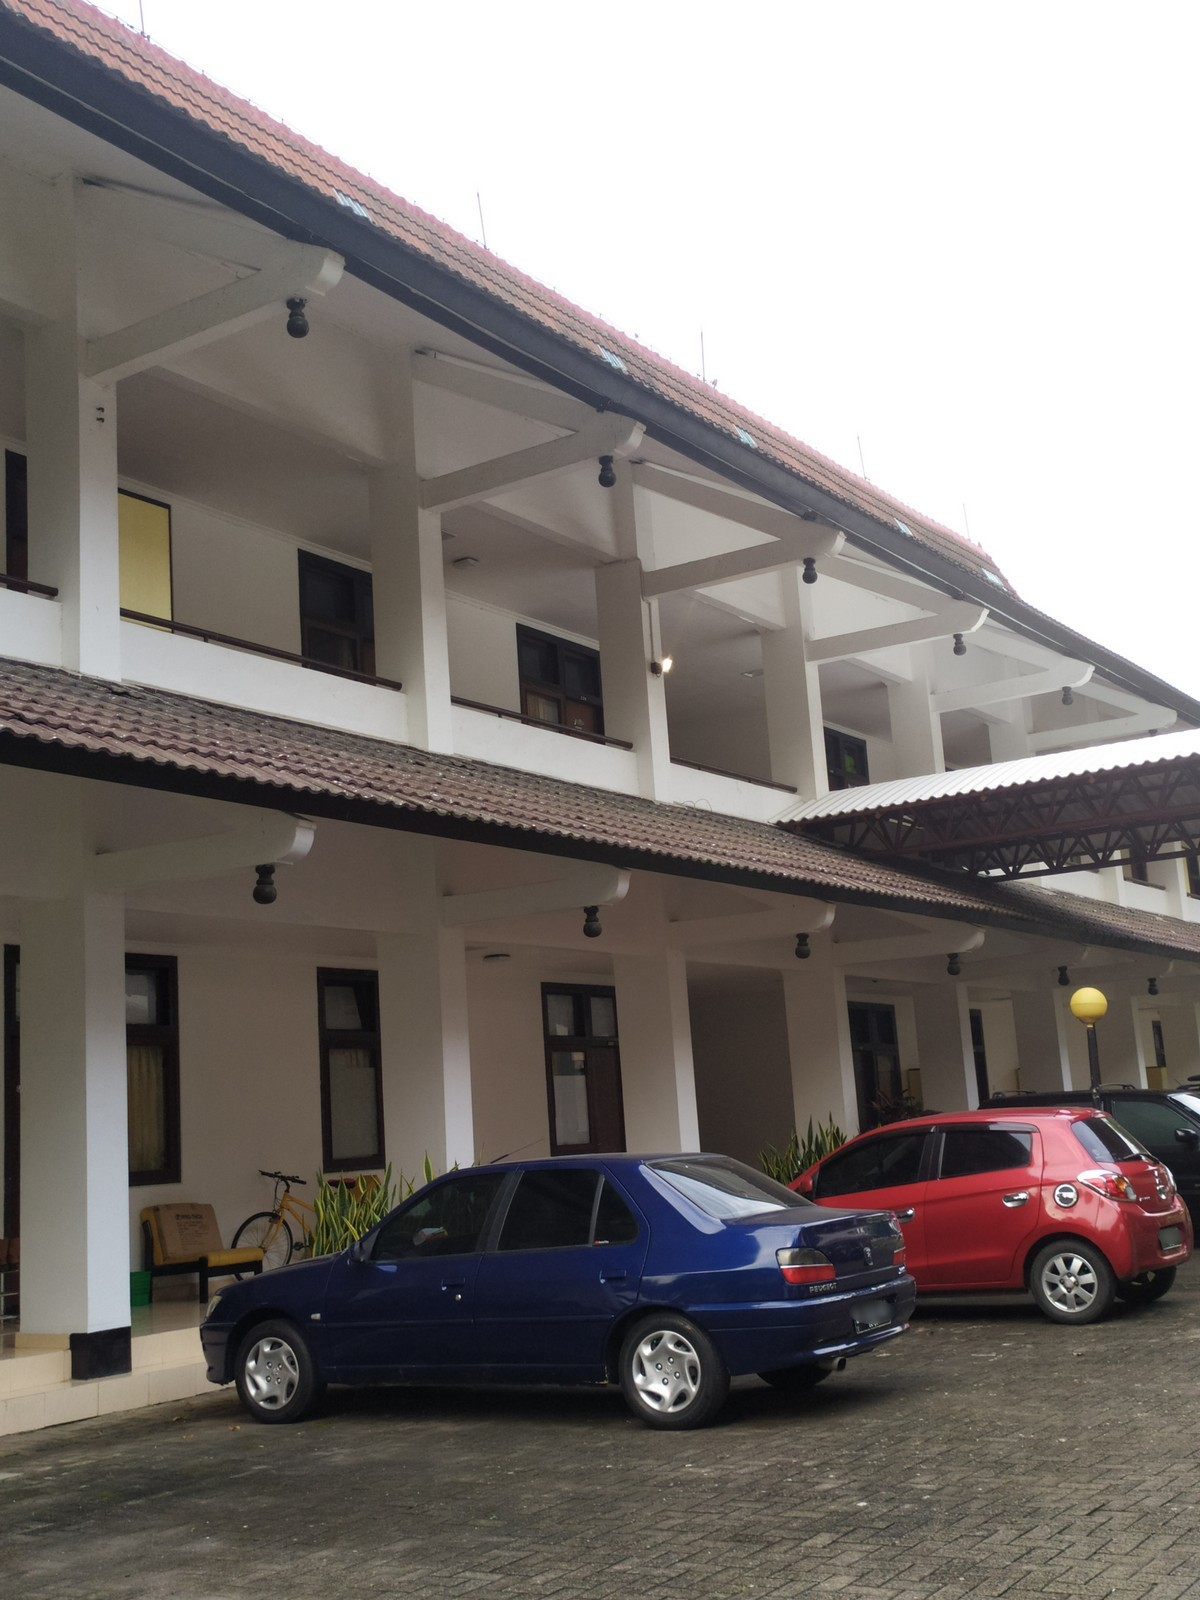concrete beam: (79, 291, 275, 393), (79, 834, 239, 907), (413, 443, 568, 517), (620, 539, 773, 601), (800, 617, 948, 670)
concrete column: (15, 794, 144, 1381), (20, 198, 136, 684), (366, 838, 487, 1212), (361, 346, 460, 765), (584, 446, 686, 810), (610, 907, 711, 1157), (753, 544, 836, 797), (775, 927, 865, 1143), (910, 970, 984, 1115)
